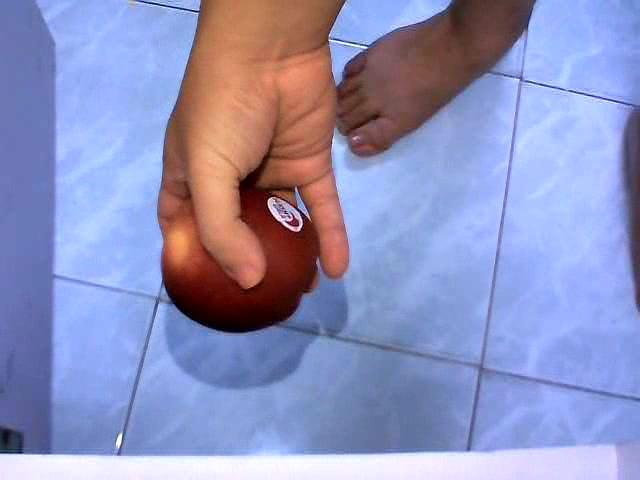apple: (159, 182, 320, 334)
